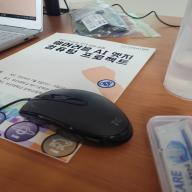mouse: (19, 87, 134, 149)
